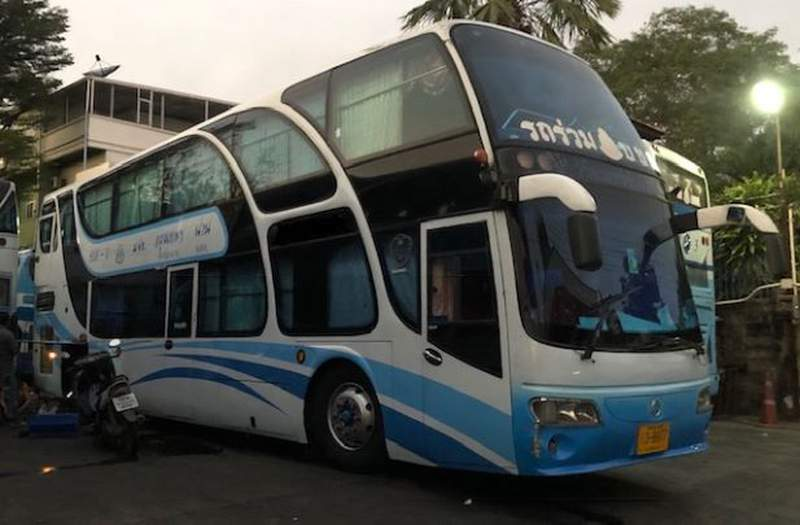bus: (271, 21, 713, 477)
